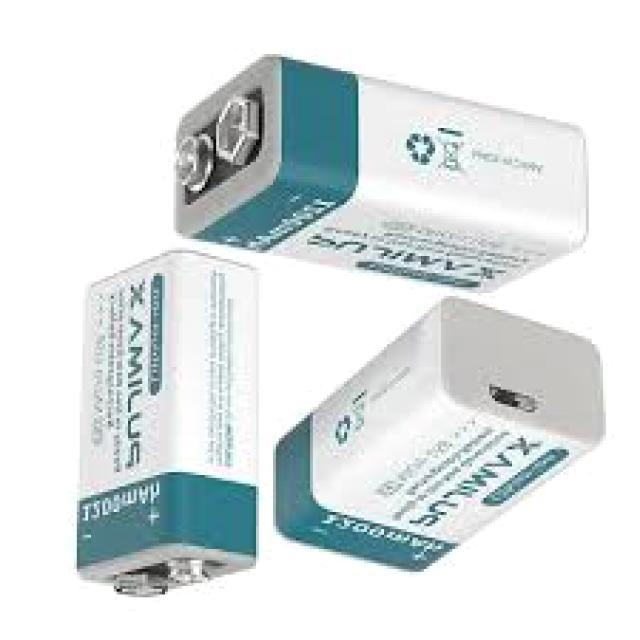battery: (173, 54, 588, 295), (76, 251, 260, 599)
